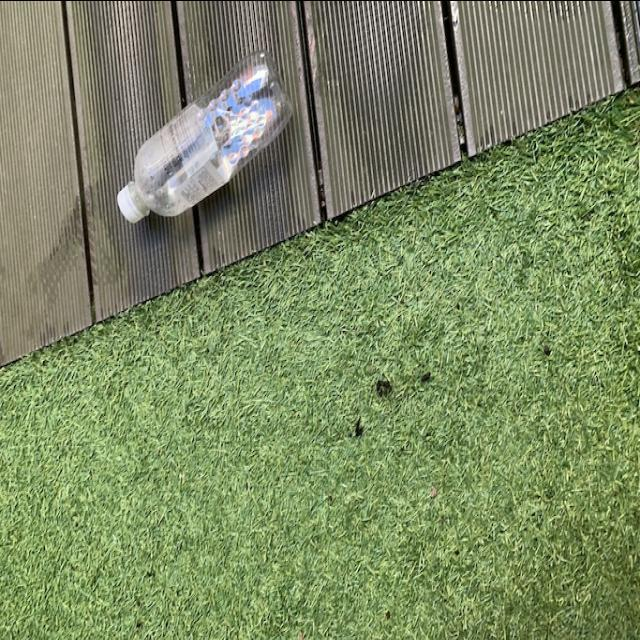litter: (114, 46, 296, 226)
